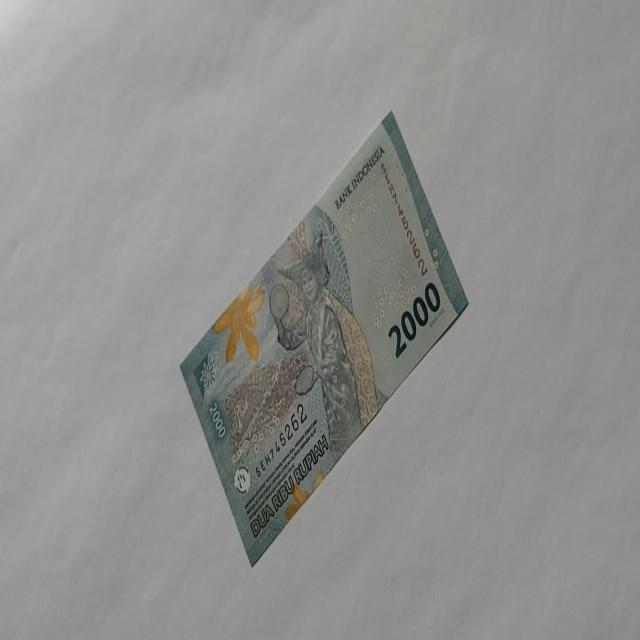dua ribu rupiah: (179, 109, 469, 566), (268, 229, 378, 466)
